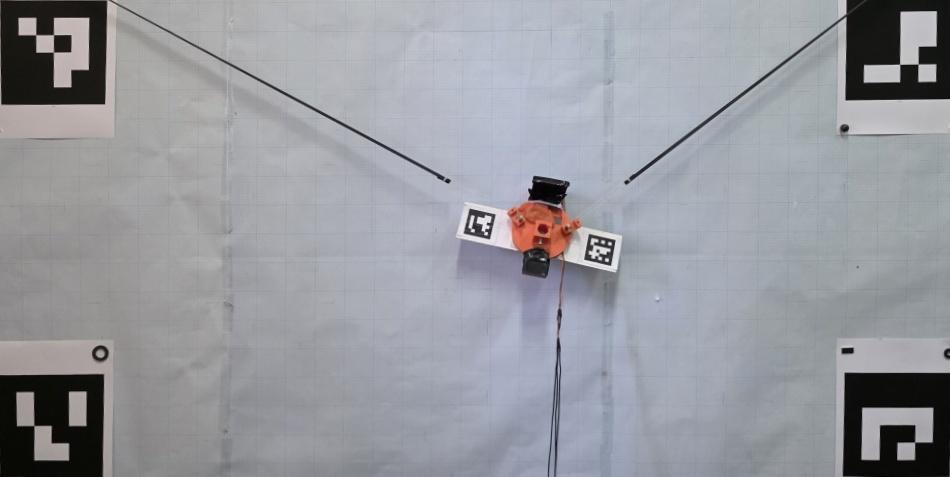robot: (508, 175, 582, 277)
